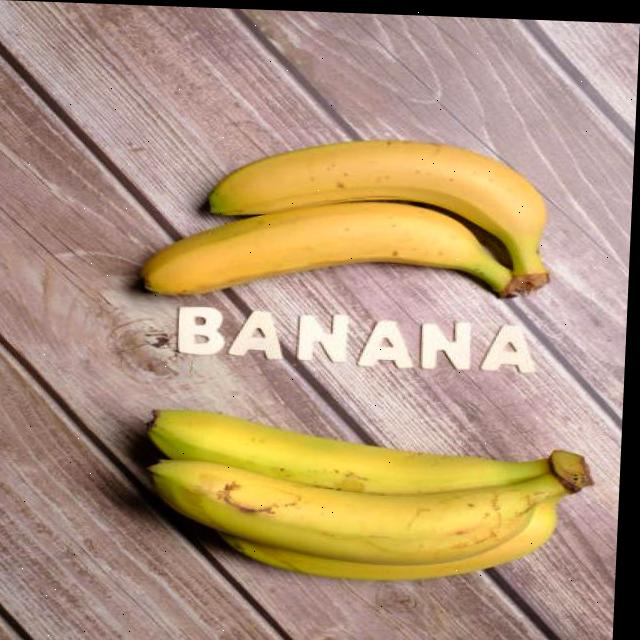banana: (126, 397, 606, 594), (125, 127, 567, 316)
